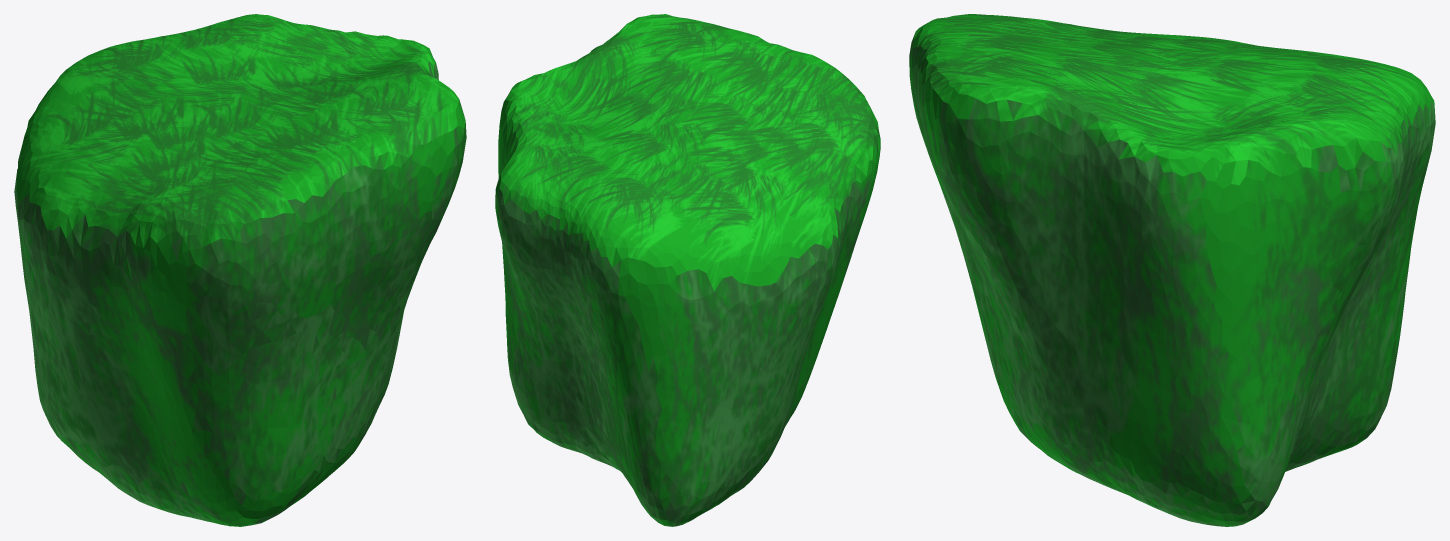
The model's file is ElevatedRidgePiece.glb.
The picture shows the model from 3 angles, left to right: view 1: azimuth 30°, elevation 25°; view 2: azimuth 150°, elevation 25°; view 3: azimuth 270°, elevation 25°; orthographic projection. The views are drawn at different scales.
Visible parts, largest first — view 1: Cube; view 2: Cube; view 3: Cube.
Part boxes in pixels (x1,y1,x2,y2): Cube: [14, 14, 466, 526]; Cube: [495, 14, 880, 526]; Cube: [909, 14, 1435, 526].
Size of the model in its own units: 7.23 by 7.99 by 8.02.
Materials: 1 (1 with a texture image).
